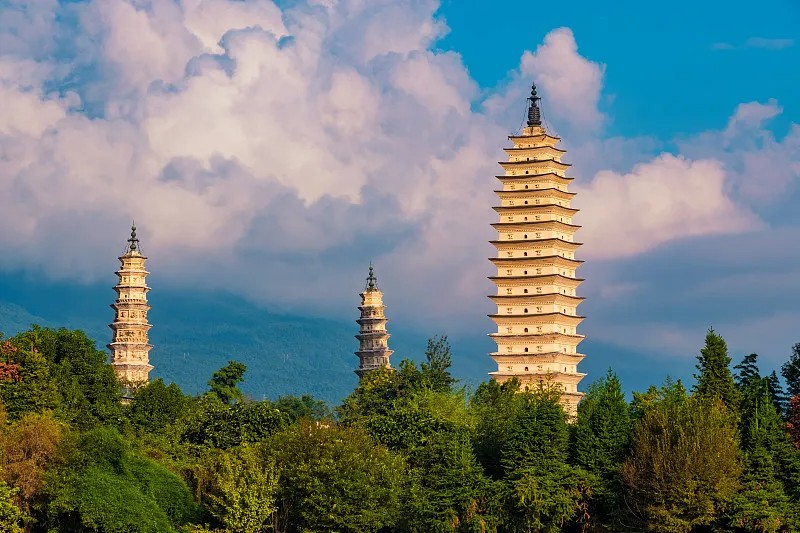ThreePagoda: (488, 83, 587, 421)
